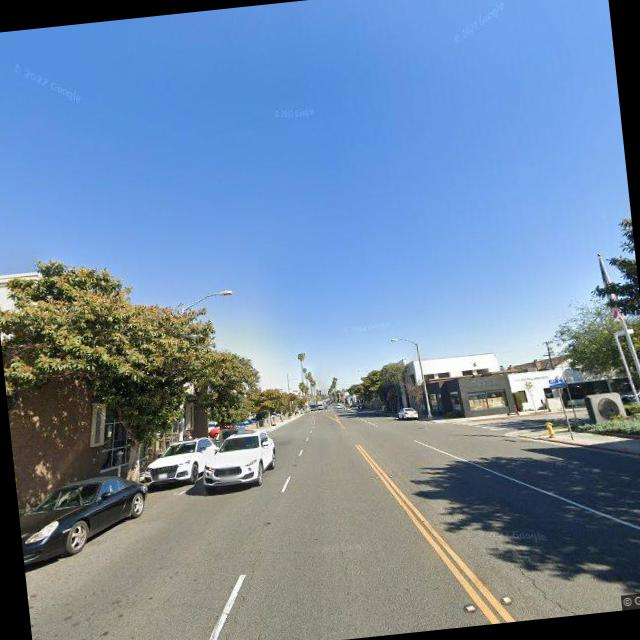pothole: (497, 540, 606, 620)
